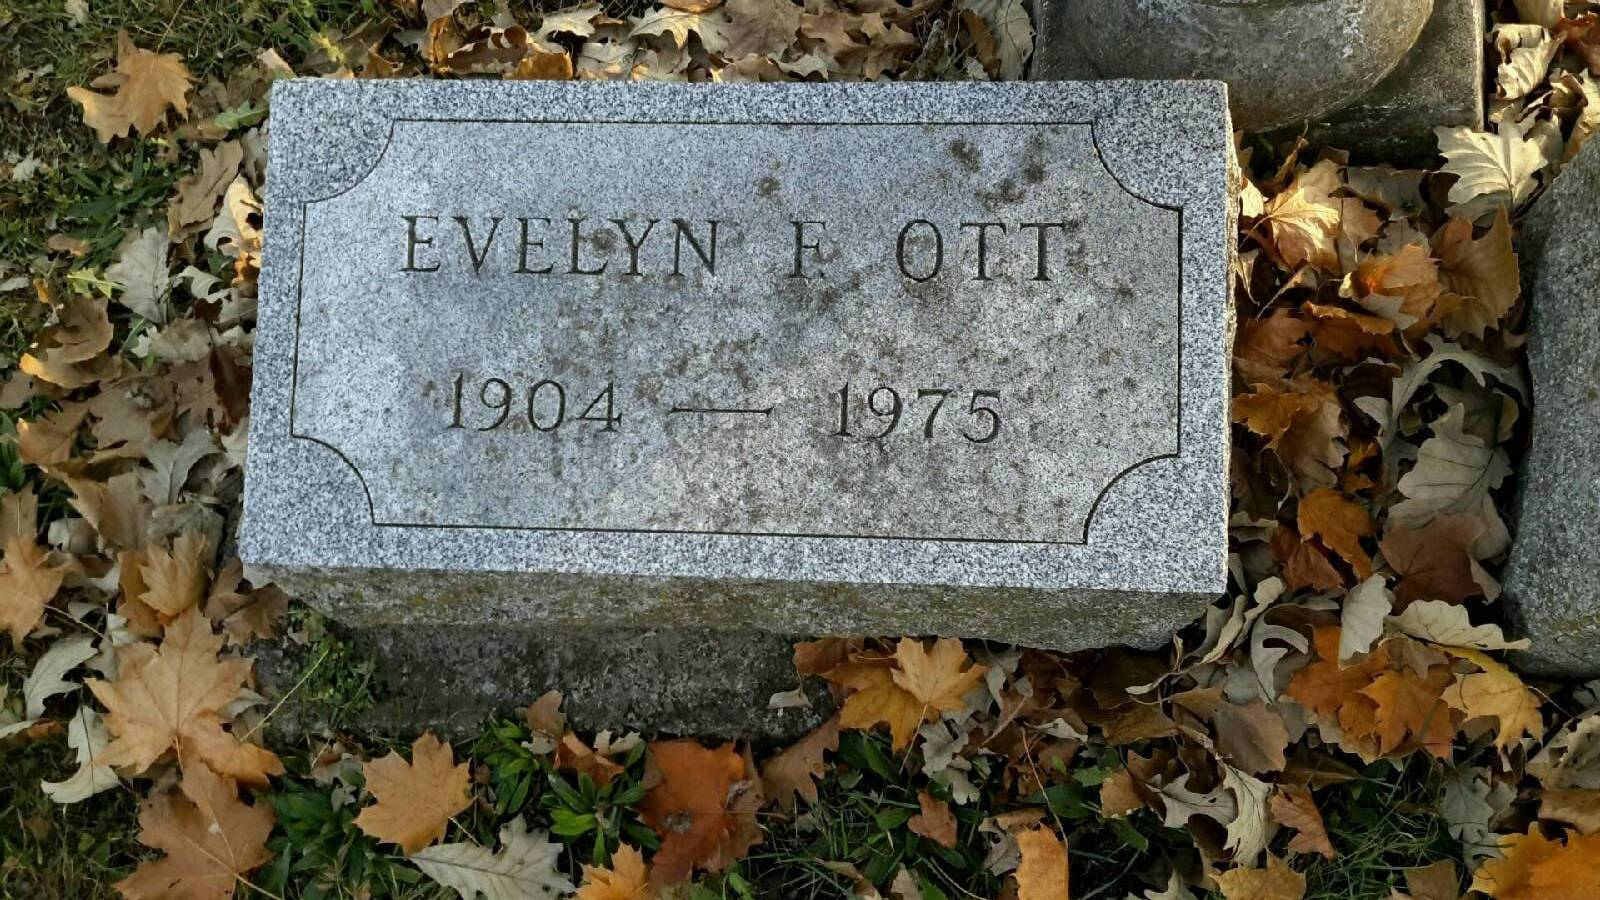flat: (224, 54, 1254, 657)
